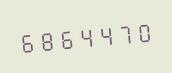eight: (36, 24, 54, 55)
four: (74, 21, 92, 52), (93, 19, 111, 50)
seven: (112, 17, 130, 49)
six: (55, 22, 73, 54), (17, 26, 35, 57)
zero: (131, 16, 149, 47)
